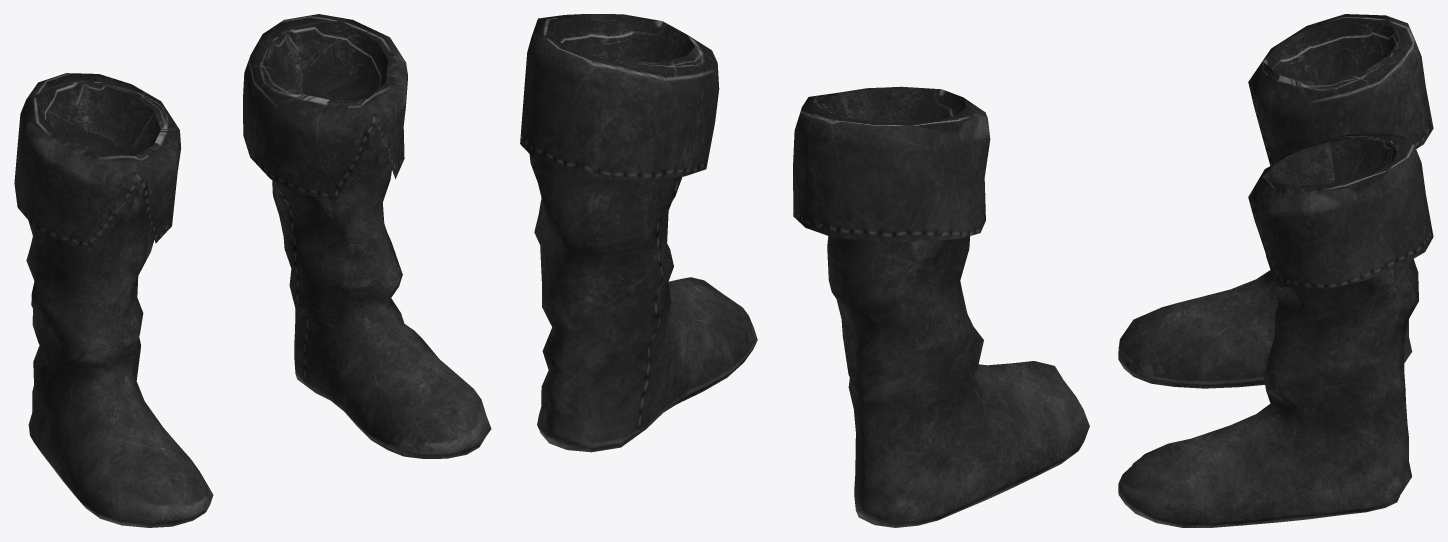
The model's file is pg_spearman_boots.fbx.
The picture shows the model from 3 angles, left to right: view 1: azimuth 30°, elevation 25°; view 2: azimuth 150°, elevation 25°; view 3: azimuth 270°, elevation 25°; orthographic projection. The views are drawn at different scales.
Parts seen in each view (by area): view 1: pg_spearman_boots; view 2: pg_spearman_boots; view 3: pg_spearman_boots.
Boxes of the visible parts, bbox=[...] form: pg_spearman_boots: bbox=[14, 14, 491, 527]; pg_spearman_boots: bbox=[520, 14, 1089, 527]; pg_spearman_boots: bbox=[1118, 14, 1433, 527].
Size of the model in its own units: 0.4988 by 0.3452 by 0.4172.
1 material, 1 textured.
